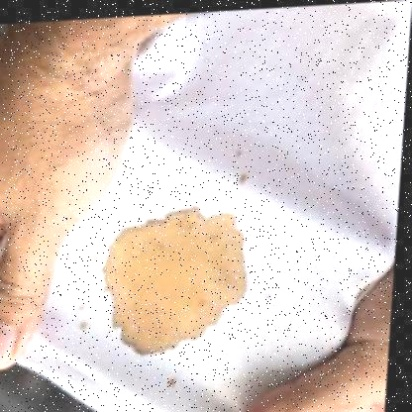coffee: (106, 212, 245, 355)
